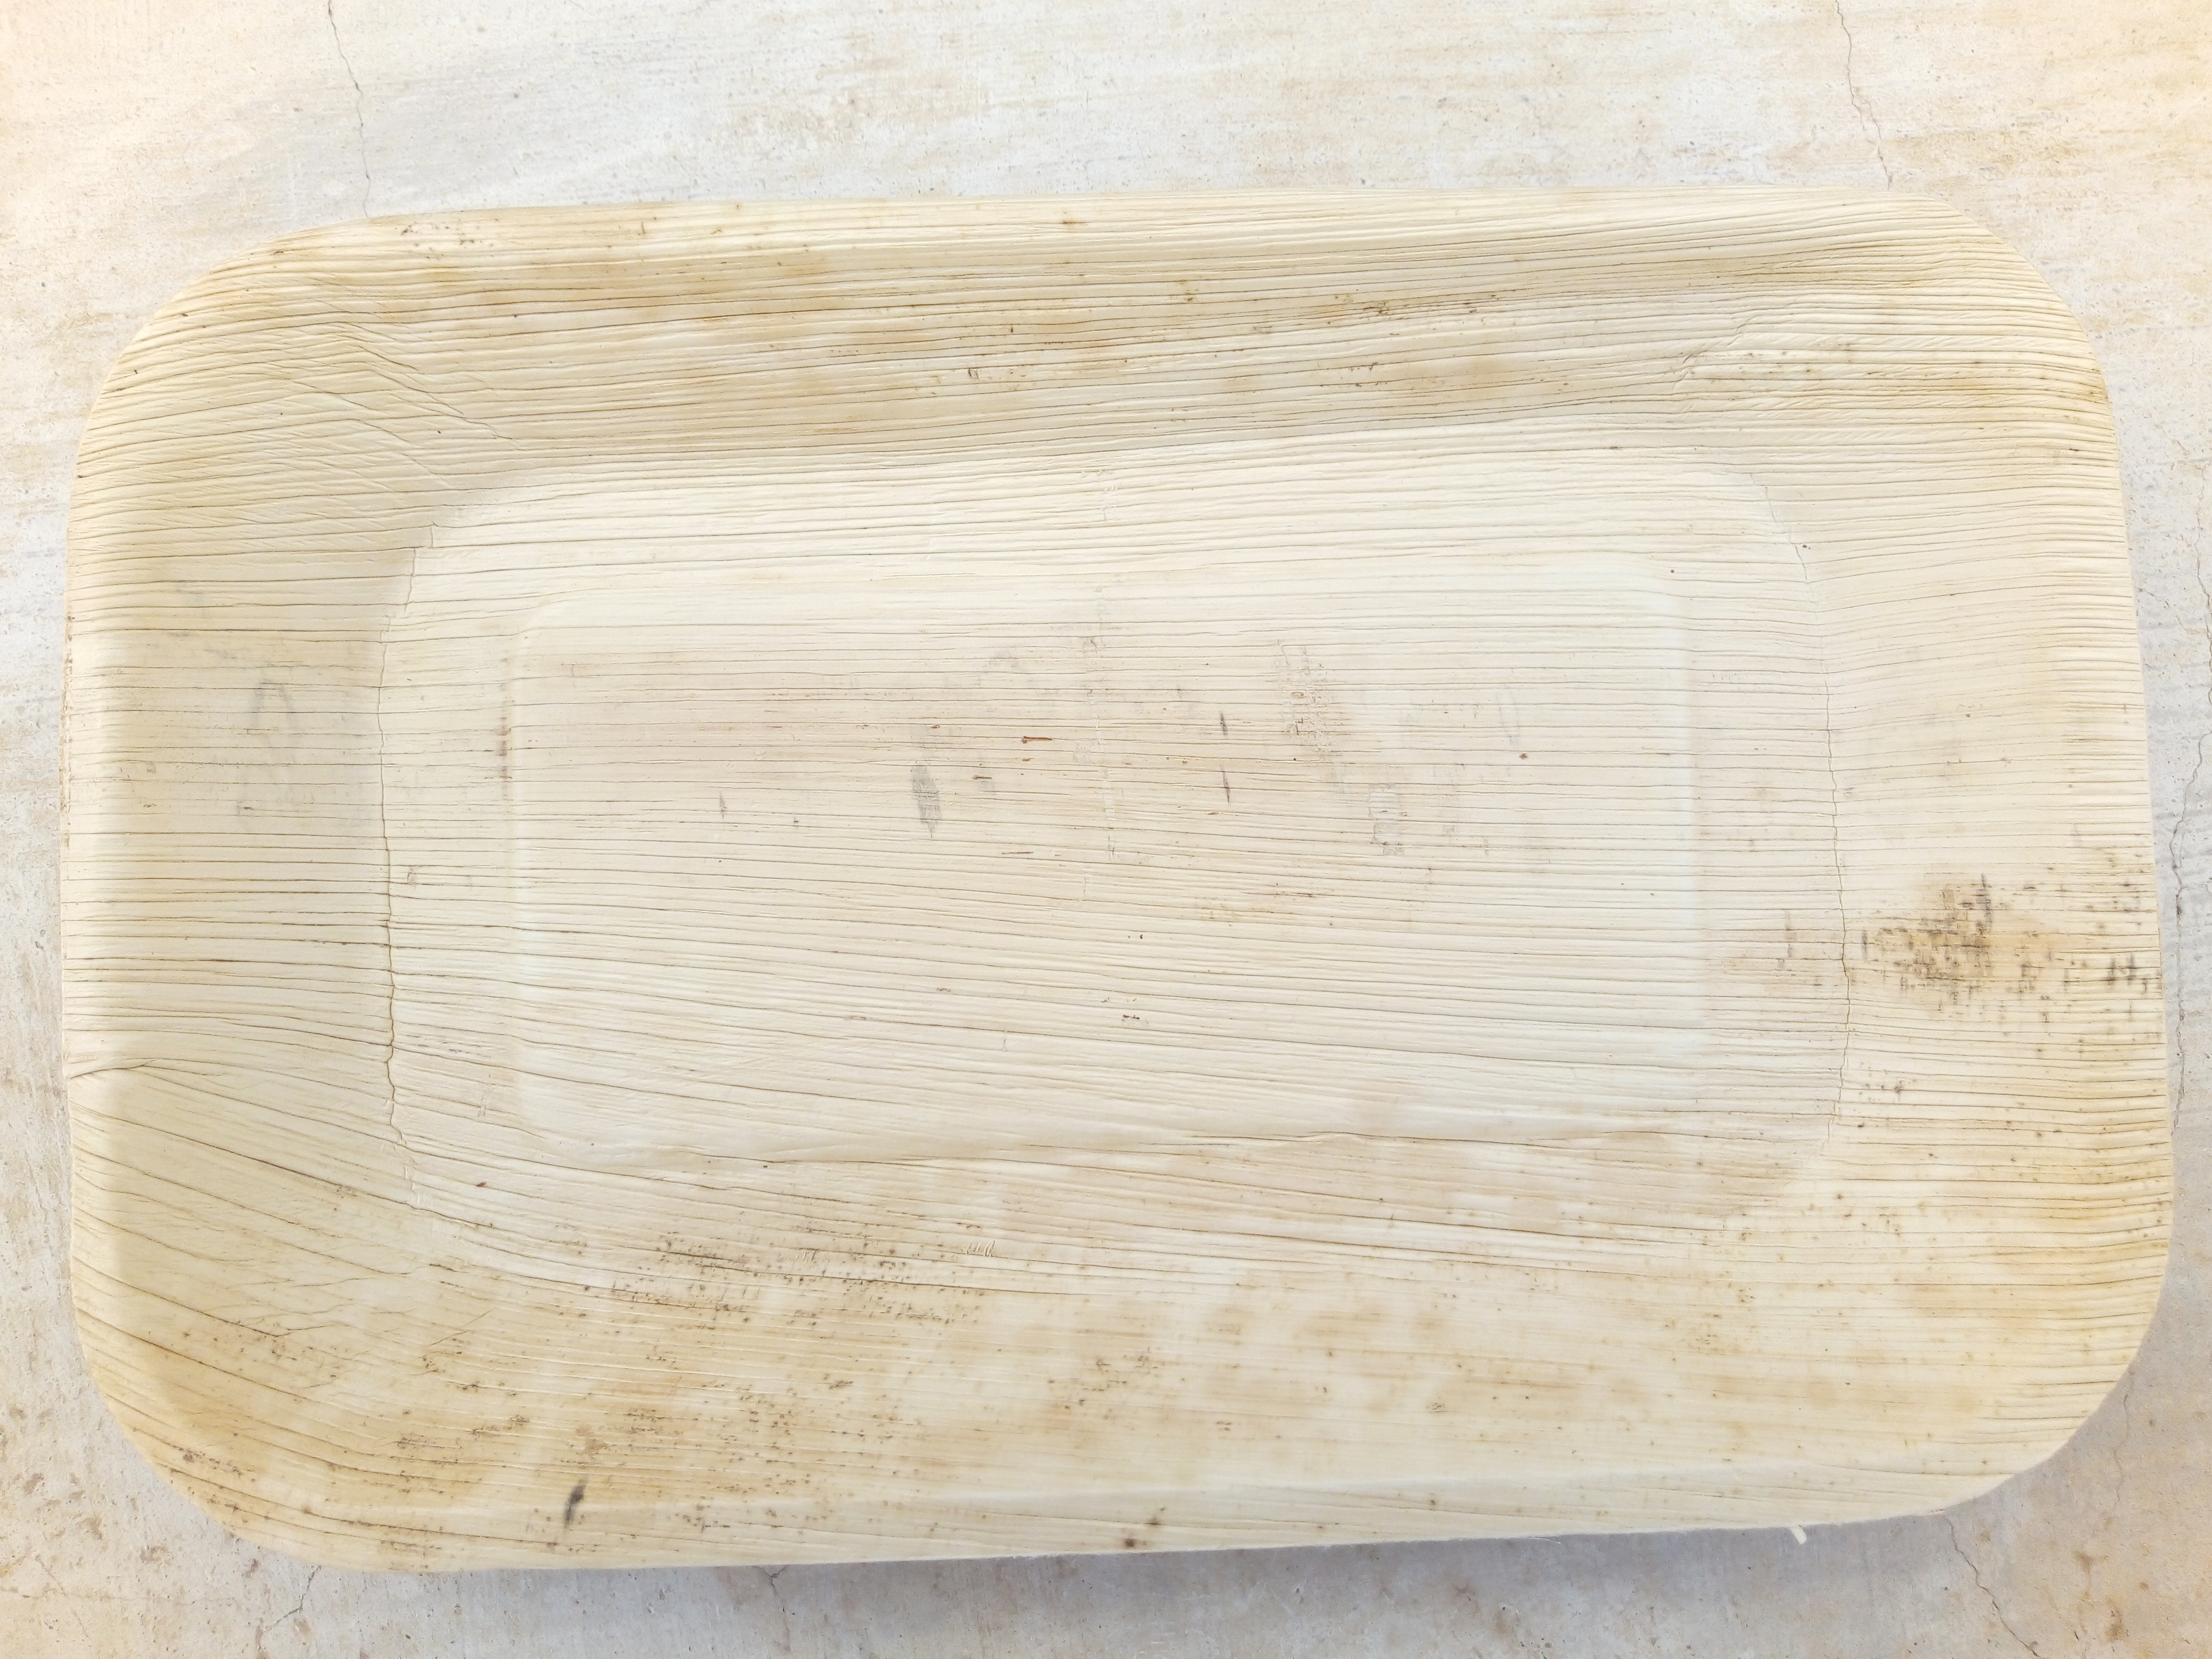areca plate: (99, 188, 2165, 1507)
